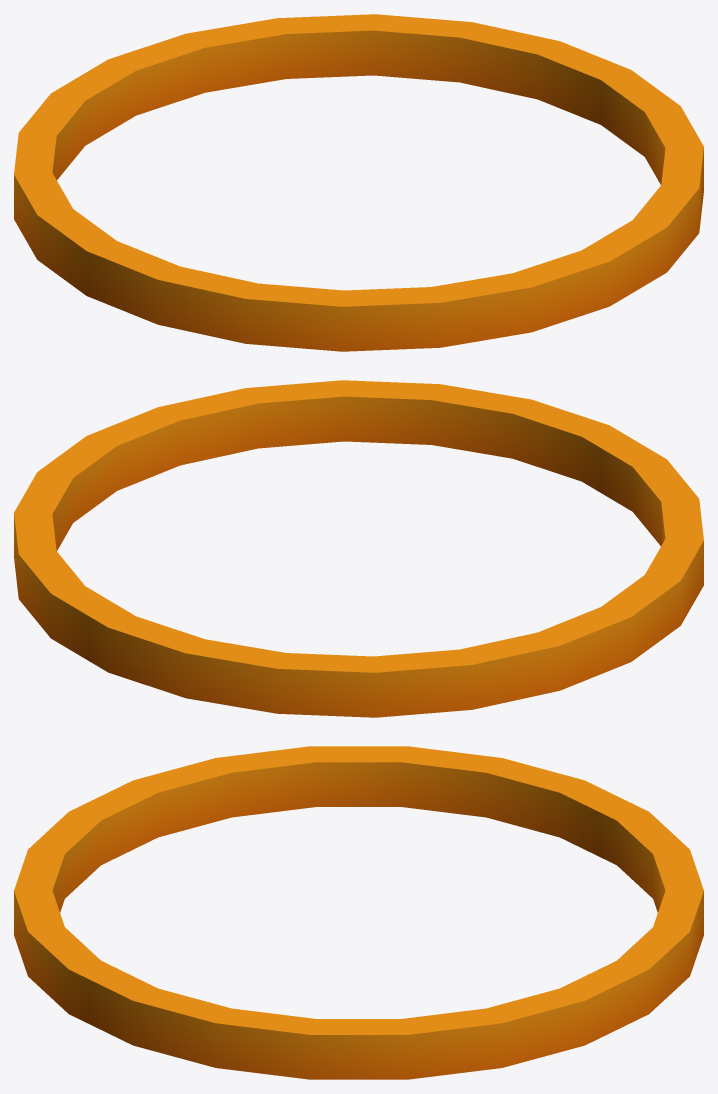
The model's file is Selection_Pointer_01.fbx.
The picture shows the model from 3 angles, top to bottom: view 1: azimuth 30°, elevation 25°; view 2: azimuth 150°, elevation 25°; view 3: azimuth 270°, elevation 25°; orthographic projection.
Parts seen in each view (by area): view 1: Selection_Pointer_01; view 2: Selection_Pointer_01; view 3: Selection_Pointer_01.
Part boxes in pixels (x1=…): Selection_Pointer_01: x1=14, y1=14, x2=703, y2=351; Selection_Pointer_01: x1=14, y1=380, x2=703, y2=717; Selection_Pointer_01: x1=14, y1=746, x2=703, y2=1079.
Size of the model in its own units: 108 by 7.84 by 110.
